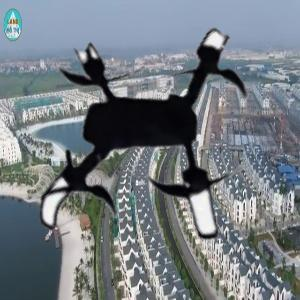drone: (15, 16, 282, 283)
